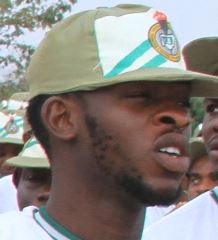without_facemask: (105, 110, 206, 200)
